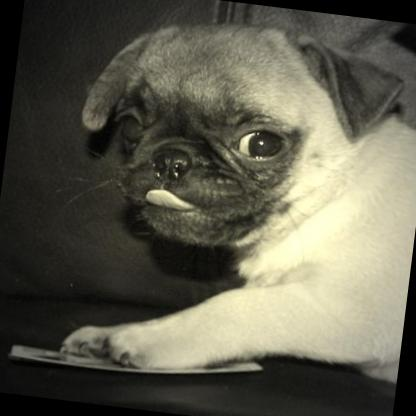pug: (44, 0, 416, 408)
